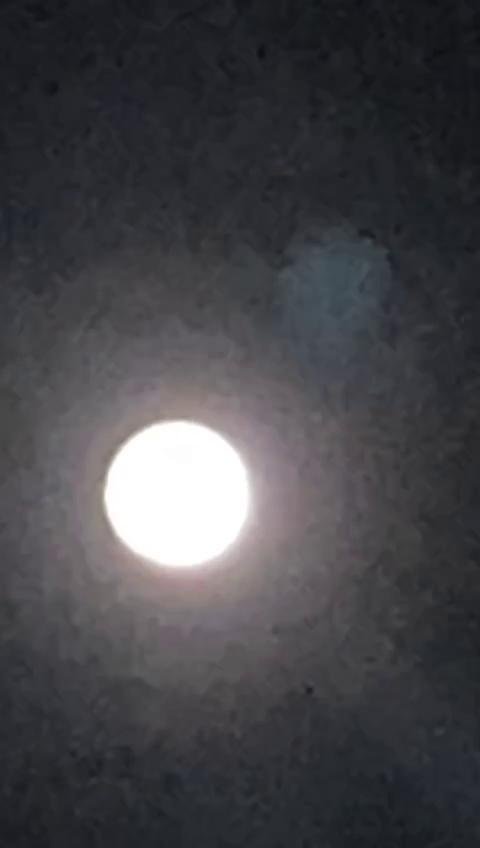moon: (85, 400, 263, 591)
